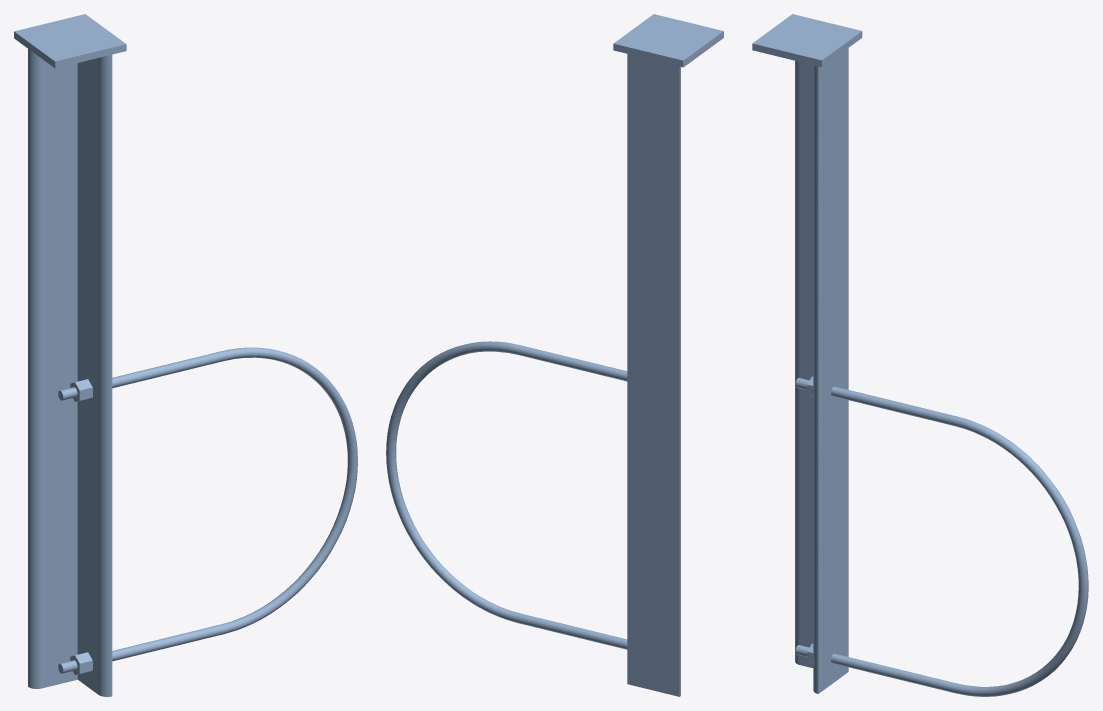
Rendered from standpipe-support.gltf.
3 renders of one model, left to right at view 1: azimuth 30°, elevation 25°; view 2: azimuth 150°, elevation 25°; view 3: azimuth 330°, elevation 25°, orthographic. The views are drawn at different scales.
Visible parts, largest first — view 1: 拉伸 [215558], 放样 [215581], 拉伸 [215548], 拉伸 [215605]; view 2: 拉伸 [215558], 放样 [215581], 拉伸 [215548]; view 3: 拉伸 [215558], 放样 [215581], 拉伸 [215548].
Boxes of the visible parts, x1=… form: 拉伸 [215558]: x1=28, y1=49, x2=112, y2=696; 放样 [215581]: x1=58, y1=347, x2=357, y2=673; 拉伸 [215548]: x1=14, y1=14, x2=126, y2=68; 拉伸 [215605]: x1=70, y1=379, x2=92, y2=674; 拉伸 [215558]: x1=627, y1=54, x2=680, y2=696; 放样 [215581]: x1=386, y1=341, x2=627, y2=649; 拉伸 [215548]: x1=613, y1=14, x2=723, y2=67; 拉伸 [215558]: x1=795, y1=48, x2=848, y2=693; 放样 [215581]: x1=795, y1=378, x2=1088, y2=696; 拉伸 [215548]: x1=752, y1=14, x2=862, y2=67.
Size of the model in its own units: 0.6786 by 1.31 by 0.15.
